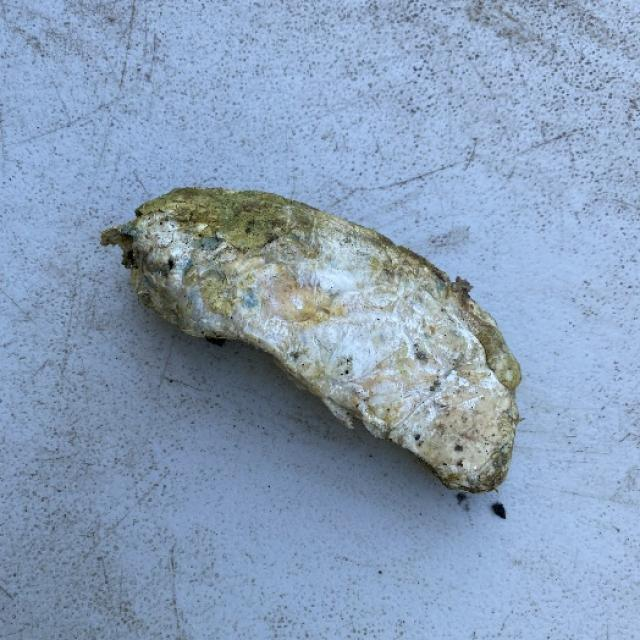wet: (106, 148, 577, 528)
